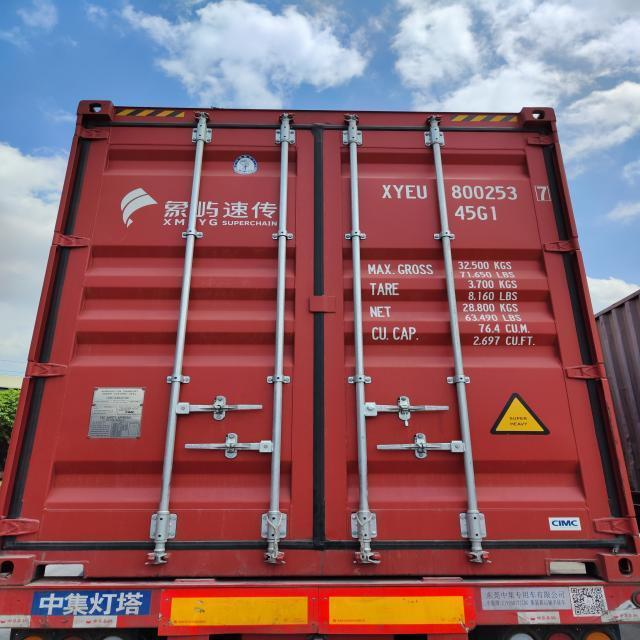ISO: (456, 205, 496, 222)
container_number: (384, 180, 549, 202)
